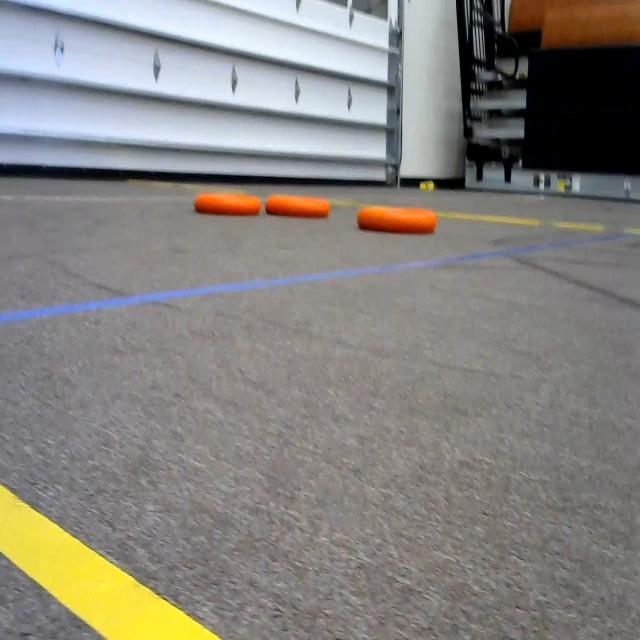note: (353, 194, 449, 234), (260, 179, 334, 225), (188, 182, 264, 219)
